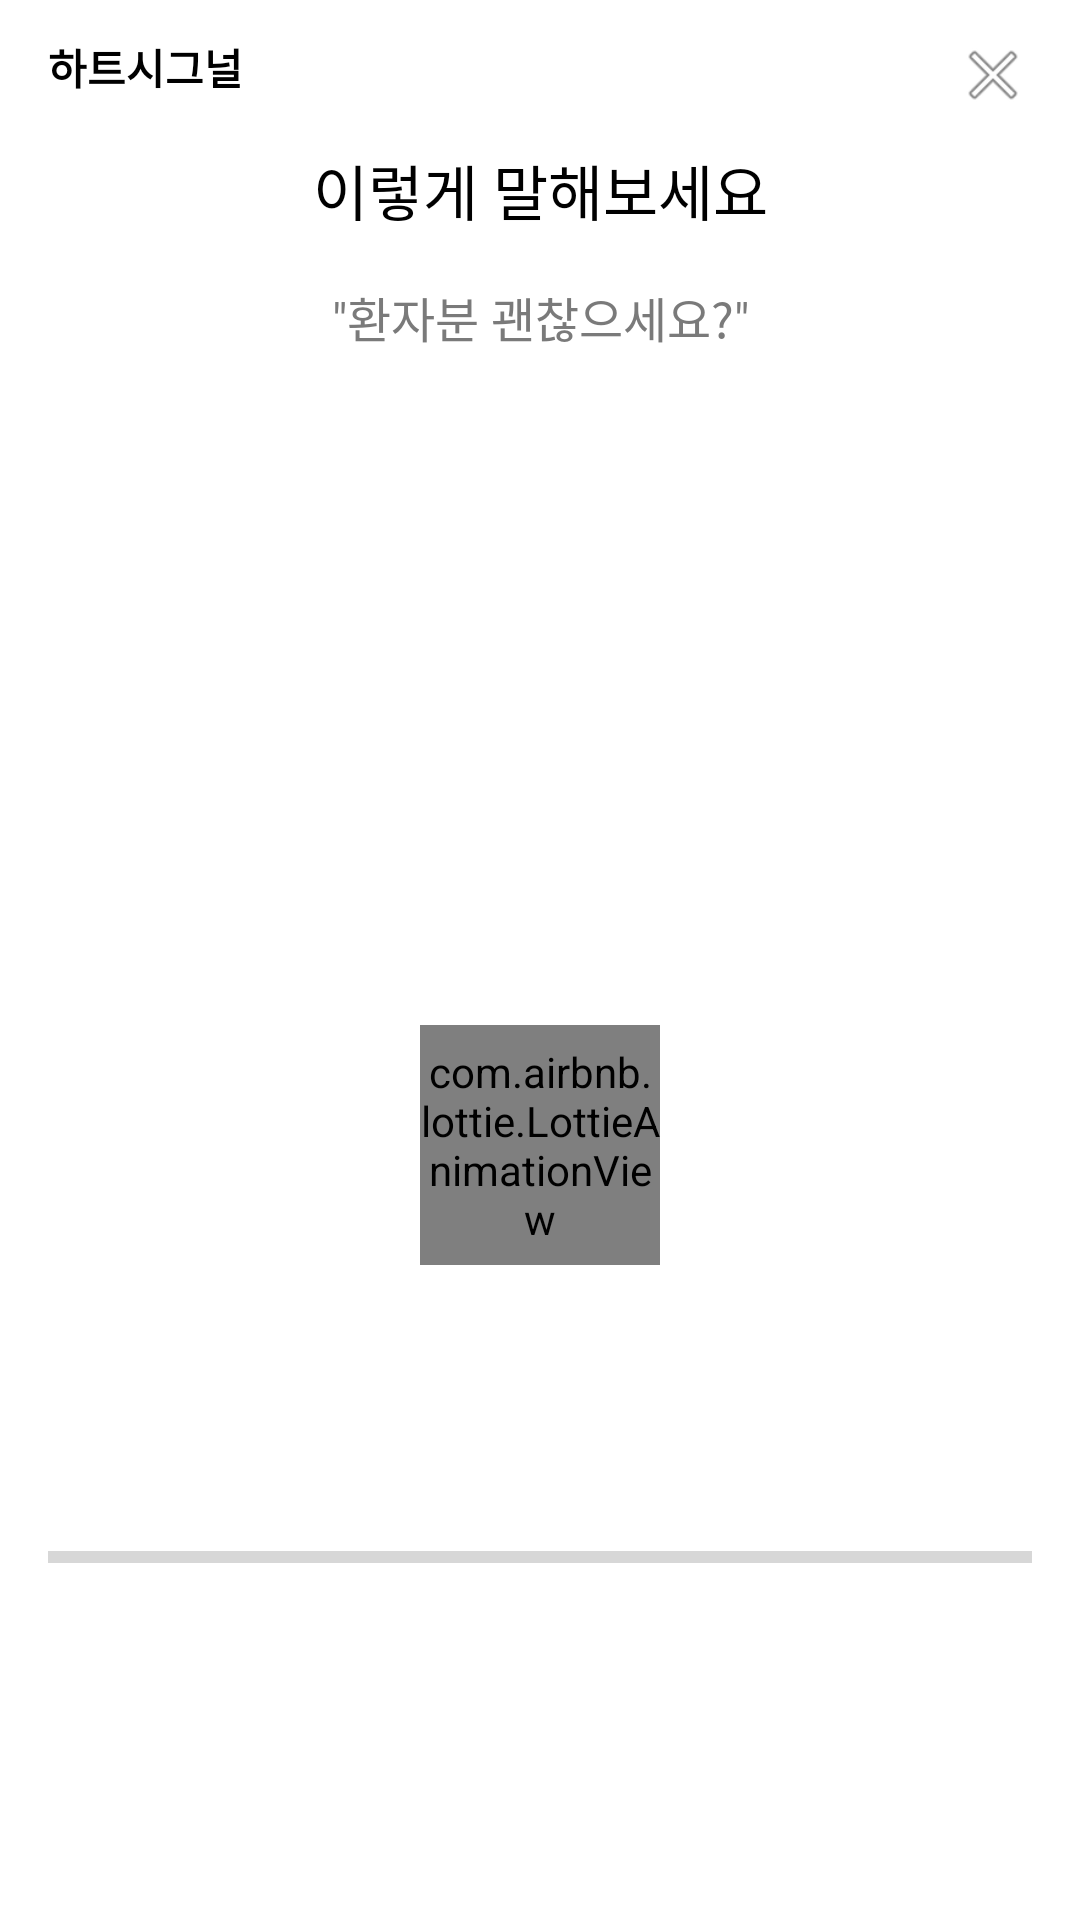

Where icons sit on this 1080w x 1920h app screen, as (x1, y1, x2, y2):
close clear cancel: (968, 51, 1017, 99)
